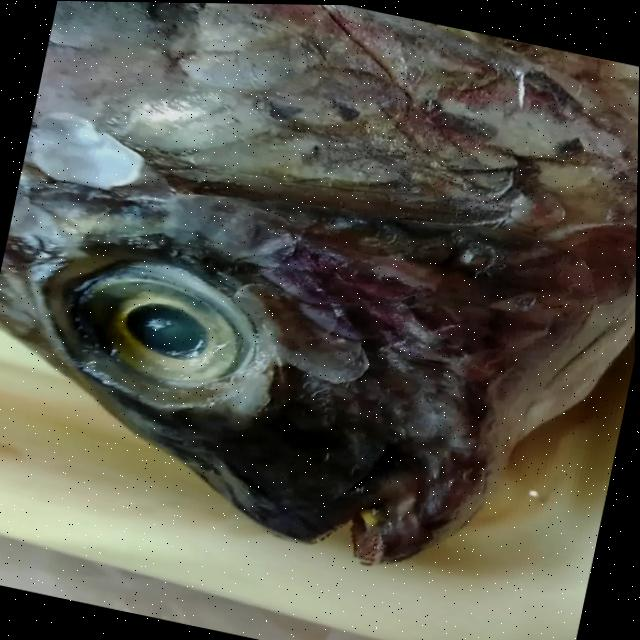Non-Fresh: (225, 7, 640, 568), (47, 223, 270, 424)
